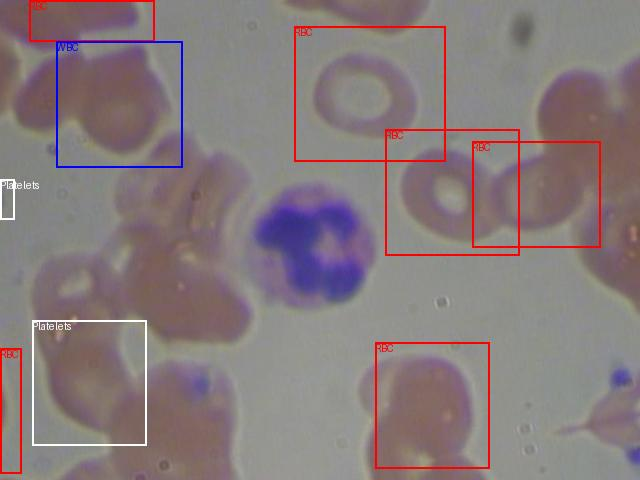Platelets: (32, 320, 146, 445), (0, 179, 14, 219)
RBC: (294, 26, 445, 161), (385, 129, 519, 255), (375, 342, 489, 468), (472, 141, 600, 247), (29, 0, 154, 41), (0, 348, 21, 473)
WBC: (56, 41, 182, 167)
